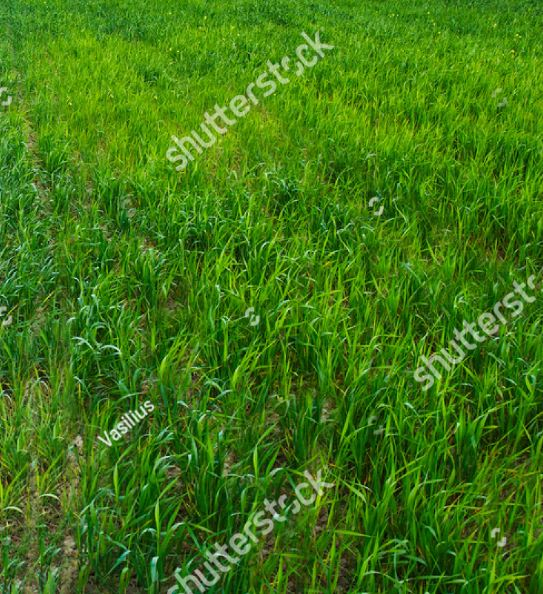Wheat: (96, 226, 449, 572)
